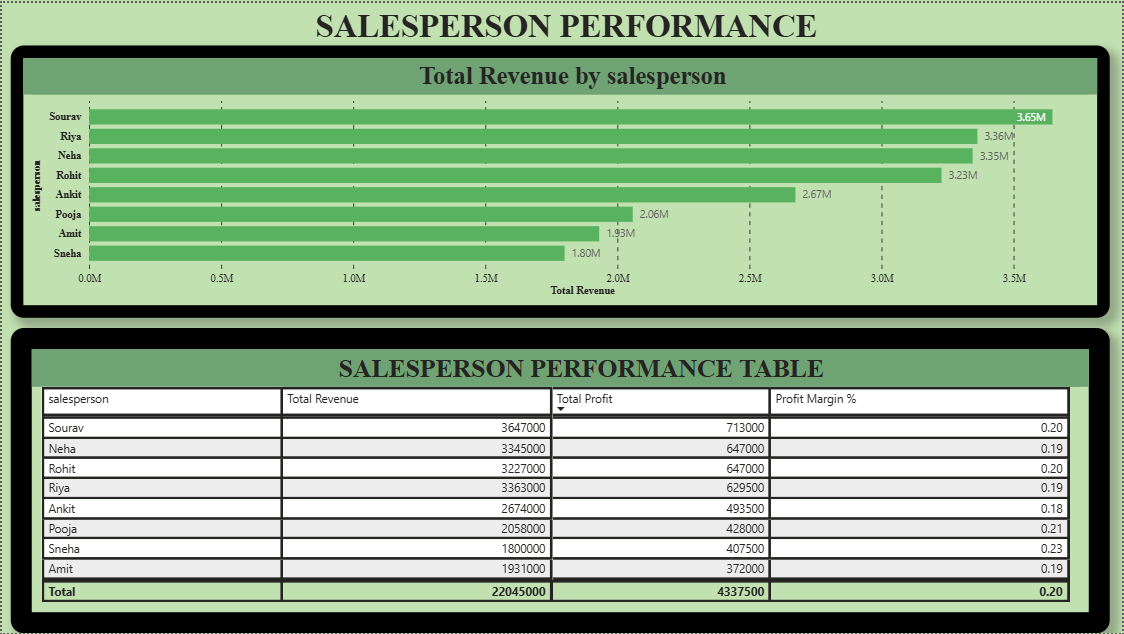

The dashboard page shown, as its layout file describes it:
{"tool":"powerbi","page":{"name":"Salesperson Performance","canvas":[1280,720],"ordinal":3},"visuals":[{"type":"textbox","box":[10,0,1270,64.3],"z":0},{"type":"clusteredBarChart","fields":{"Category":["Sales_Data_FIXED.salesperson"],"Y":["Sales_Data_FIXED.Total Revenue"]},"box":[10,48.6,1255.7,311.4],"z":1000},{"type":"tableEx","title":"SALESPERSON PERFORMANCE TABLE","fields":{"Values":["Sales_Data_FIXED.salesperson","Sales_Data_FIXED.Total Revenue","Sales_Data_FIXED.Total Profit","Sales_Data_FIXED.Profit Margin %"]},"box":[10,371.4,1255.7,348.6],"z":2000}]}

Visuals, with their boxes in screenshot pixels (x1, y1, x2, y2), scaled from the page's 1280x720 canvas onto the 1124x634 screenshot:
textbox: (9, 0, 1123, 57)
clusteredBarChart - Sales_Data_FIXED.salesperson x Sales_Data_FIXED.Total Revenue: (9, 43, 1111, 317)
"SALESPERSON PERFORMANCE TABLE" tableEx: (9, 327, 1111, 633)
